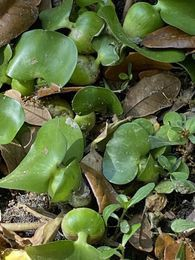water_hyacinth: (0, 0, 194, 259)
